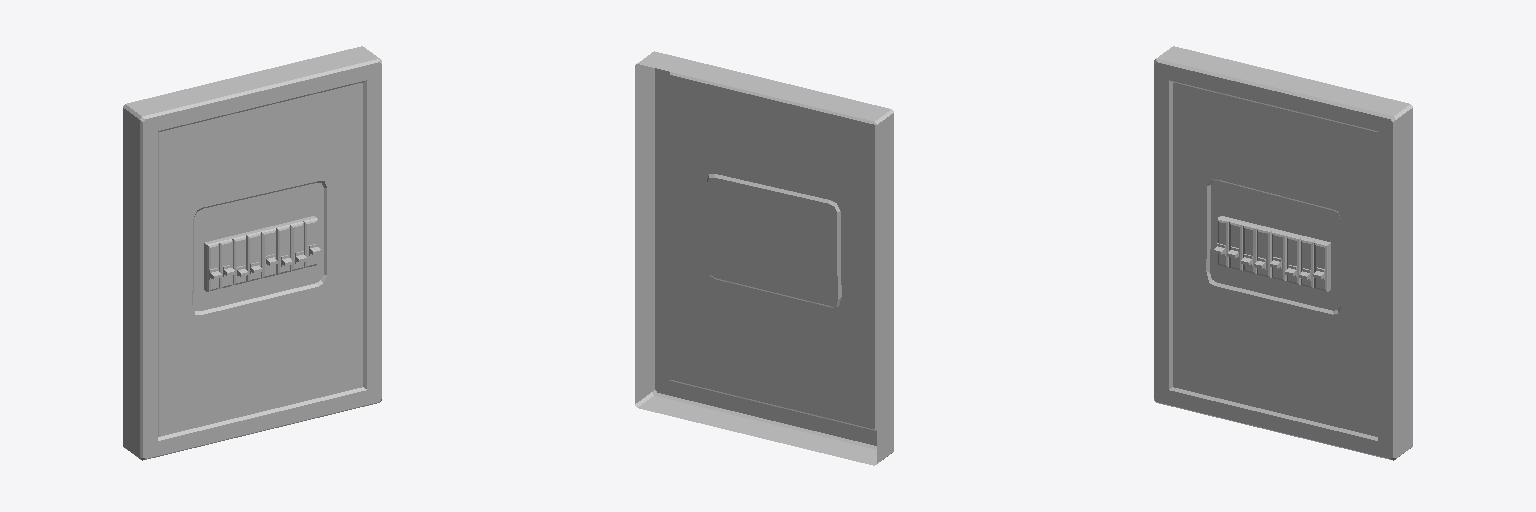
The model's file is wall_box_2.obj.
3 views of the same model, side by side, from view 1: azimuth 30°, elevation 25°; view 2: azimuth 150°, elevation 25°; view 3: azimuth 330°, elevation 25° (orthographic).
Parts seen in each view (by area): view 1: wall_box_2; view 2: wall_box_2; view 3: wall_box_2.
Part boxes in pixels (left/top/right/bottom): wall_box_2: left=123, top=46, right=381, bottom=460; wall_box_2: left=635, top=51, right=893, bottom=465; wall_box_2: left=1154, top=46, right=1412, bottom=460.
Size of the model in its own units: 0.3928 by 0.5328 by 0.068.